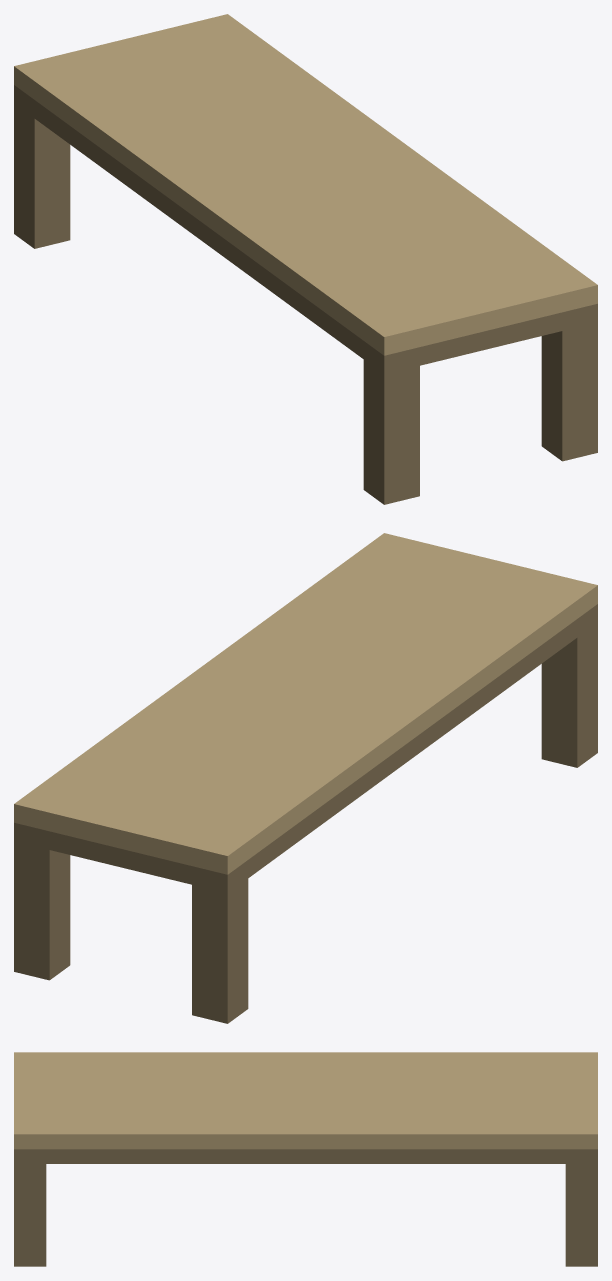
Rendered from mostrador_tejo_01.glb.
The picture shows the model from 3 angles, top to bottom: view 1: azimuth 30°, elevation 25°; view 2: azimuth 150°, elevation 25°; view 3: azimuth 270°, elevation 25°; orthographic projection. The views are drawn at different scales.
Parts seen in each view (by area): view 1: mostrador_tejo; view 2: mostrador_tejo; view 3: mostrador_tejo.
Part boxes in pixels (x1=…): mostrador_tejo: x1=14, y1=14, x2=597, y2=504; mostrador_tejo: x1=14, y1=533, x2=597, y2=1023; mostrador_tejo: x1=14, y1=1052, x2=597, y2=1266.
Size of the model in its own units: 1 by 0.75 by 3.
